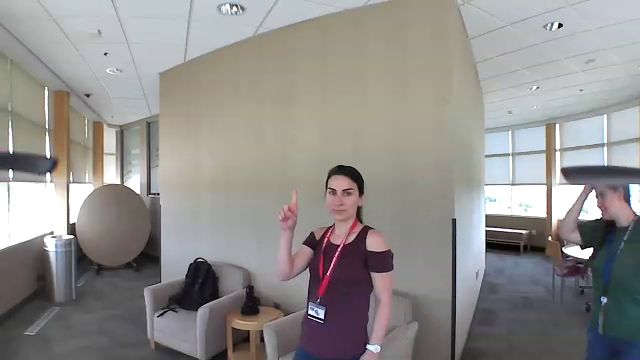up: (274, 189, 301, 235)
